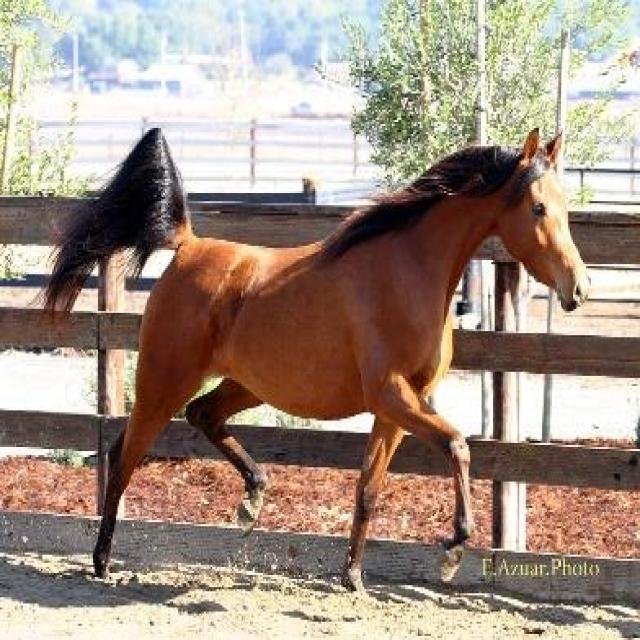horse: (31, 122, 591, 593)
